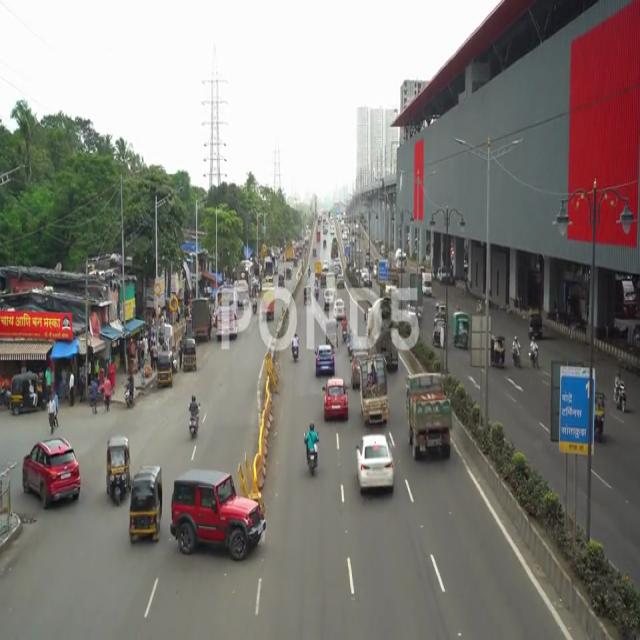car: (169, 468, 266, 562), (18, 446, 89, 503), (356, 431, 395, 504), (321, 376, 350, 422), (314, 339, 336, 377)
motorbike: (304, 419, 321, 484), (185, 389, 203, 444), (614, 368, 629, 416), (510, 332, 524, 372), (528, 333, 540, 371)
rikshaw: (127, 471, 165, 550), (104, 435, 132, 503), (491, 333, 508, 373)
truck: (402, 375, 452, 463), (357, 360, 389, 426), (453, 308, 470, 355)
